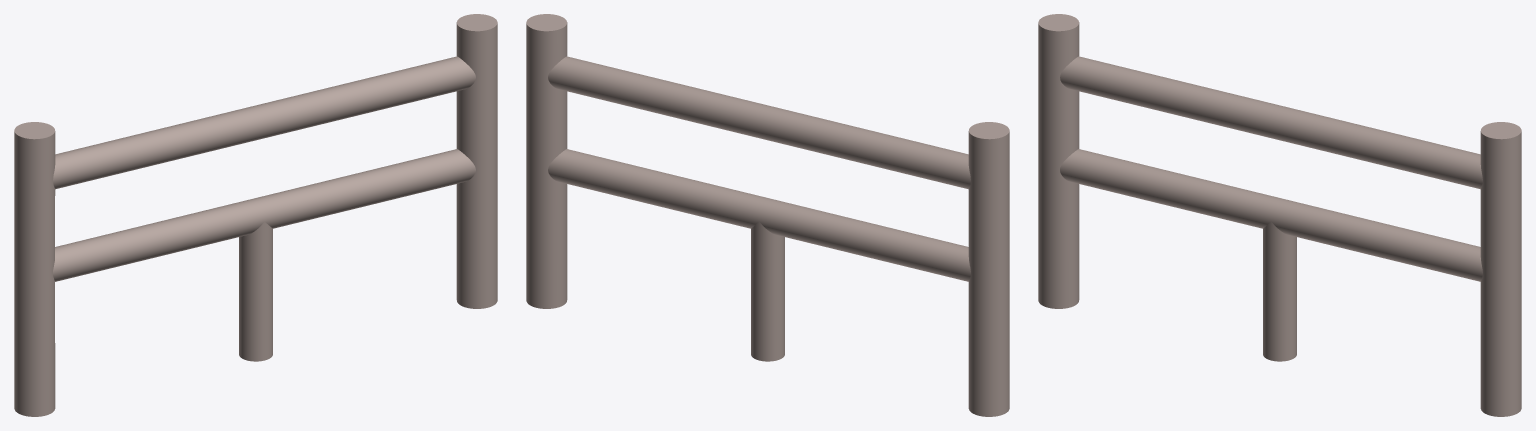
Rendered from 1024_fence_1.glb.
The picture shows the model from 3 angles, left to right: view 1: azimuth 30°, elevation 25°; view 2: azimuth 150°, elevation 25°; view 3: azimuth 330°, elevation 25°; orthographic projection.
Parts seen in each view (by area): view 1: Body; view 2: Body; view 3: Body.
Boxes of the visible parts, bbox=[...] form: Body: bbox=[14, 14, 497, 416]; Body: bbox=[526, 14, 1009, 416]; Body: bbox=[1038, 14, 1521, 416].
Size of the model in its own units: 1.62 by 0.9 by 0.12.
